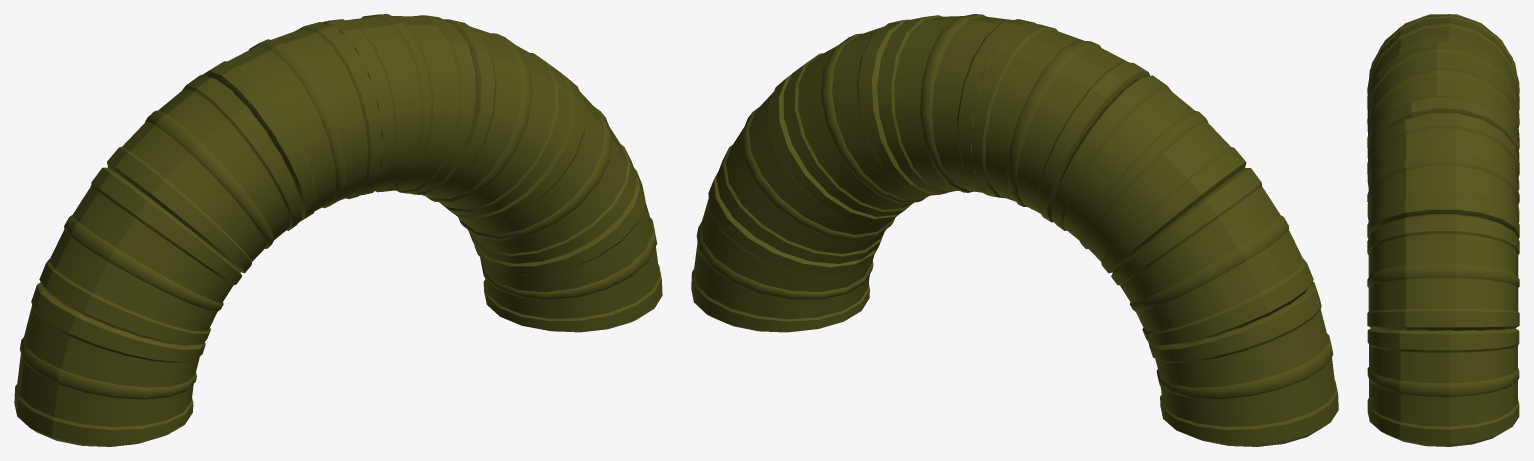
The model's file is Pipe_b_180.FBX.
3 renders of one model, left to right at view 1: azimuth 30°, elevation 25°; view 2: azimuth 150°, elevation 25°; view 3: azimuth 270°, elevation 25°, orthographic. The views are drawn at different scales.
Visible parts, largest first — view 1: Pipe_b_180; view 2: Pipe_b_180; view 3: Pipe_b_180.
Part boxes in pixels (x1,y1,x2,y2): Pipe_b_180: (14, 14, 662, 446); Pipe_b_180: (691, 14, 1338, 446); Pipe_b_180: (1367, 14, 1519, 446).
Size of the model in its own units: 6.03 by 1.5 by 3.02.
